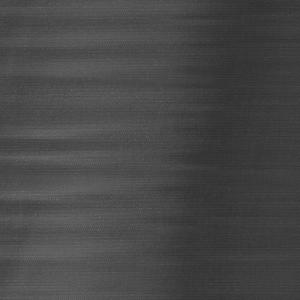Wrinkle: (1, 1, 150, 300), (183, 2, 300, 300)
